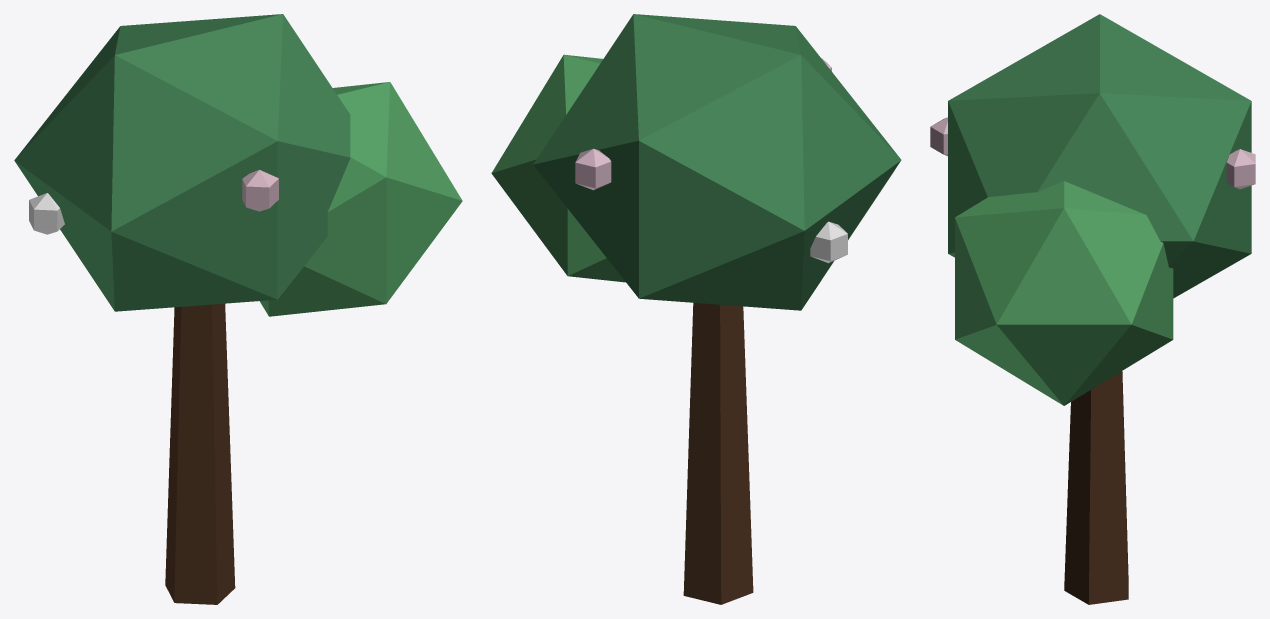
Rendered from crop_apple_s2.glb.
3 views of the same model, side by side, from view 1: azimuth 30°, elevation 25°; view 2: azimuth 150°, elevation 25°; view 3: azimuth 270°, elevation 25° (orthographic). The views are drawn at different scales.
Visible parts, largest first — view 1: crop_apple_s2; view 2: crop_apple_s2; view 3: crop_apple_s2.
Boxes of the visible parts, bbox=[...] form: crop_apple_s2: bbox=[14, 14, 462, 604]; crop_apple_s2: bbox=[491, 14, 901, 604]; crop_apple_s2: bbox=[930, 14, 1255, 604].
Size of the model in its own units: 0.6264 by 0.9304 by 0.5112.
